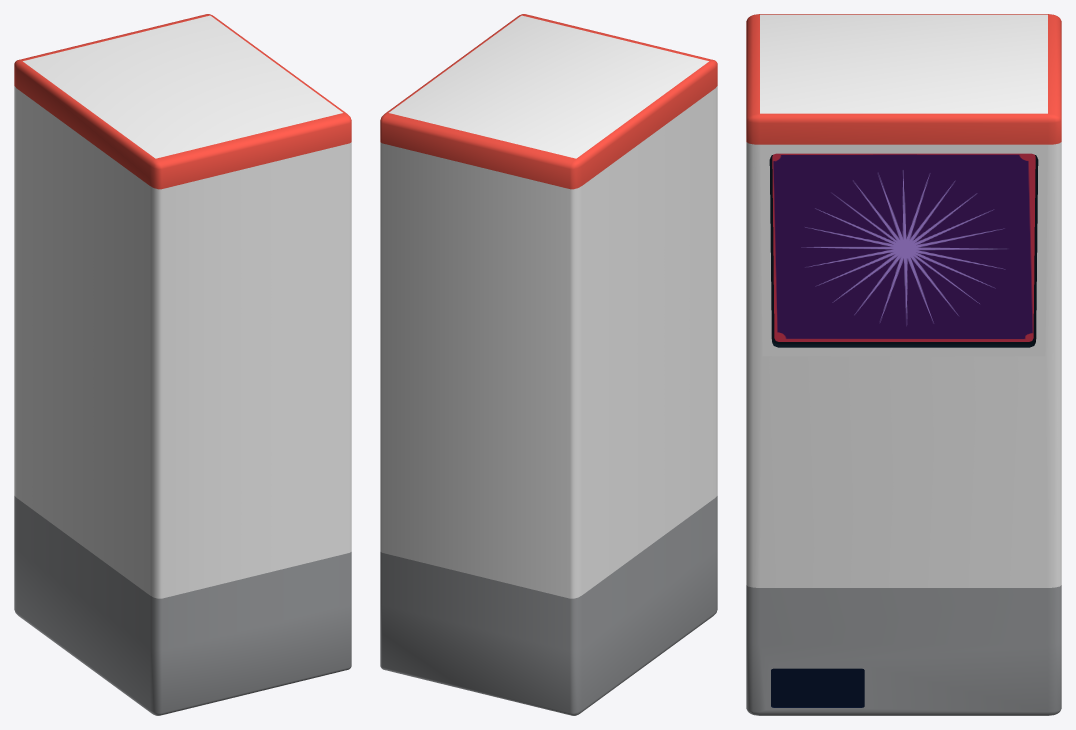
Rendered from TicketMachine.fbx.
3 views of the same model, side by side, from view 1: azimuth 30°, elevation 25°; view 2: azimuth 150°, elevation 25°; view 3: azimuth 270°, elevation 25° (orthographic). The views are drawn at different scales.
Parts seen in each view (by area): view 1: TicketMachine; view 2: TicketMachine; view 3: TicketMachine.
Boxes of the visible parts, x1,y1,x2,y2 form: TicketMachine: (14, 14, 351, 715); TicketMachine: (380, 14, 717, 715); TicketMachine: (746, 14, 1061, 715).
Size of the model in its own units: 3 by 8 by 3.8.
